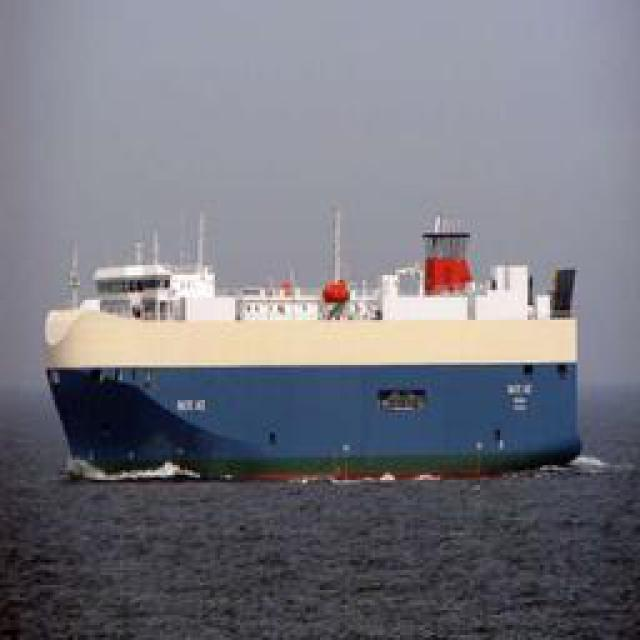Ship: (45, 247, 598, 467)
